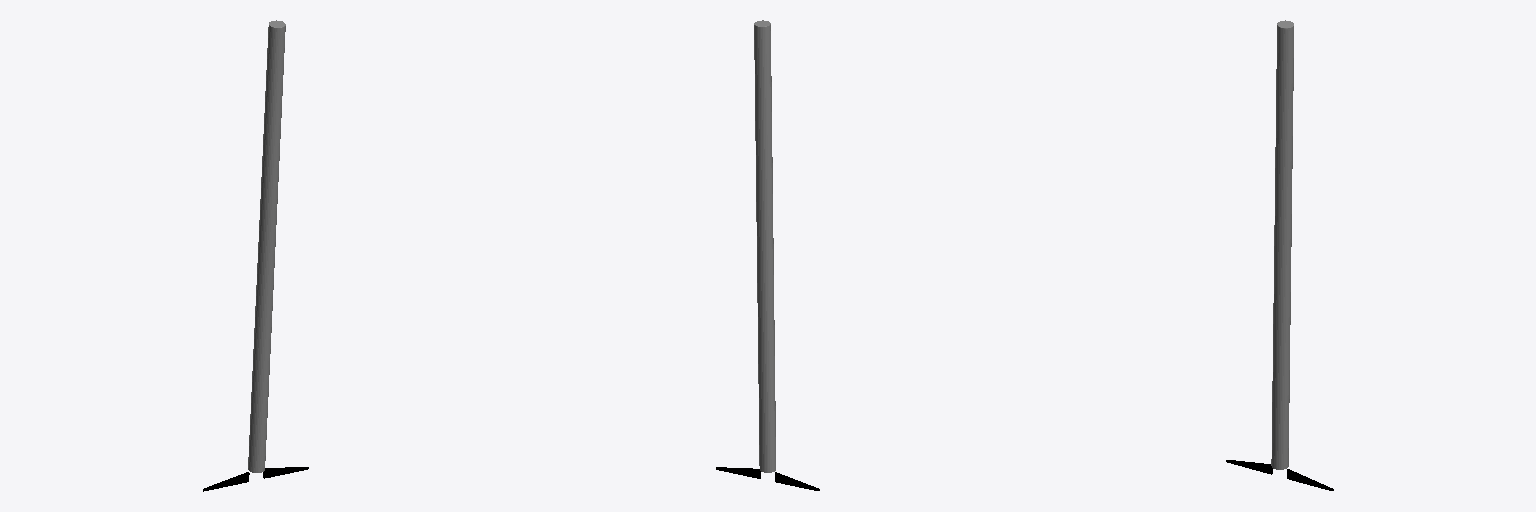
The robot description file, URDF, robot "Dustpan_4":
<?xml version="1.0"?>
<robot name="Dustpan_4">
  <link name="robot_base">
    <!-- Inertial: adjust mass & inertia to match your mesh -->
    <inertial>
        <origin xyz="0.249206 -0.326272 0.048338" rpy="-0.004184 4.681718 -3.137595"/>
        <inertia ixx="0.041666664866109" ixy="0.0" ixz="0.0" iyy="0.041666664866109" iyz="0.0" izz="0.0083333333224678"/>
        <mass value="4.9999995231628"/>
    </inertial>
    <!-- Collision meshes -->
    <collision name="Dustpan_4_col">
      <origin xyz="0.249206 -0.326272 0.048338" rpy="-0.004184 4.681718 -3.137595"/>
      <geometry>
        <mesh filename="dustpan_robot_base_vis_1.dae"/>
      </geometry>
    </collision>
    <collision name="Dustpan_3_col">
      <origin xyz="0.250150 -0.345628 0.078978" rpy="-2.360428 4.669018 2.359958"/>
      <geometry>
        <mesh filename="dustpan_Dustpan_3_vis_1.dae"/>
      </geometry>
    </collision>
    <collision name="Dustpan_5_col">
      <origin xyz="0.259549 -0.355126 0.384261" rpy="3.099872 3.129058 1.082189"/>
      <geometry>
        <mesh filename="dustpan_Dustpan_5_vis_1.dae"/>
      </geometry>
    </collision>

    <!-- Visual meshes -->
    <visual name="Dustpan_4_vis">
      <origin xyz="0.249206 -0.326272 0.048338" rpy="-0.004184 4.681718 -3.137595"/>
      <geometry>
        <mesh filename="dustpan_robot_base_vis_1.dae"/>
      </geometry>
      <material name="robot_base_material">
        <color rgba="0.100000 0.100000 0.100000 1.0"/>
      </material>
    </visual>
    <visual name="Dustpan_3_vis">
      <origin xyz="0.250150 -0.345628 0.078978" rpy="-2.360428 4.669018 2.359958"/>
      <geometry>
        <mesh filename="dustpan_Dustpan_3_vis_1.dae"/>
      </geometry>
      <material name="Dustpan_3_material">
        <color rgba="0.000000 0.000000 0.000000 1.0"/>
      </material>
    </visual>
    <visual name="Dustpan_5_vis">
      <origin xyz="0.259549 -0.355126 0.384261" rpy="3.099872 3.129058 1.082189"/>
      <geometry>
        <mesh filename="dustpan_Dustpan_5_vis_1.dae"/>
      </geometry>
      <material name="Dustpan_5_material">
        <color rgba="0.588200 0.588200 0.588200 1.0"/>
      </material>
    </visual>

  </link>
</robot>

--- Render facts (derived) ---
3 views of the same robot in one strip: view 1: azimuth 30°, elevation 25°; view 2: azimuth 150°, elevation 25°; view 3: azimuth 330°, elevation 25° (orthographic).
Model Dustpan_4 with 1 links and 0 joints (none), rooted at robot_base, posed every joint at zero.
Links seen in each view (by area): view 1: robot_base; view 2: robot_base; view 3: robot_base.
Boxes of the visible links, x1,y1,x2,y2 form: robot_base: [203, 20, 308, 491]; robot_base: [716, 20, 819, 490]; robot_base: [1226, 20, 1333, 490].
Bounding box of the posed robot: 0.1474 × 0.0388 × 0.6116 m (x, y, z).
2 mesh visuals loaded from 3 distinct referenced files (2 Collada DAE); not drawn: 1 (reference not matched to a file when rendering).
